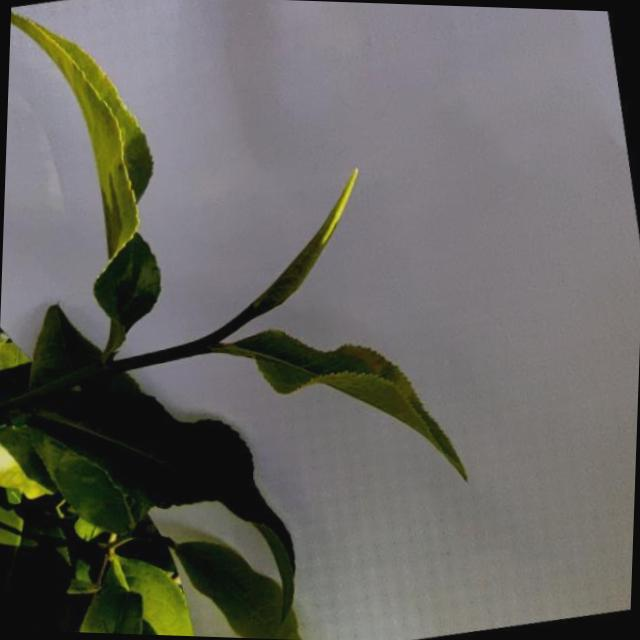Stem: (167, 333, 212, 361)
